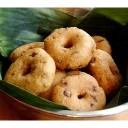vada: (6, 49, 55, 94), (45, 27, 95, 67), (56, 69, 106, 109), (93, 50, 120, 91)
